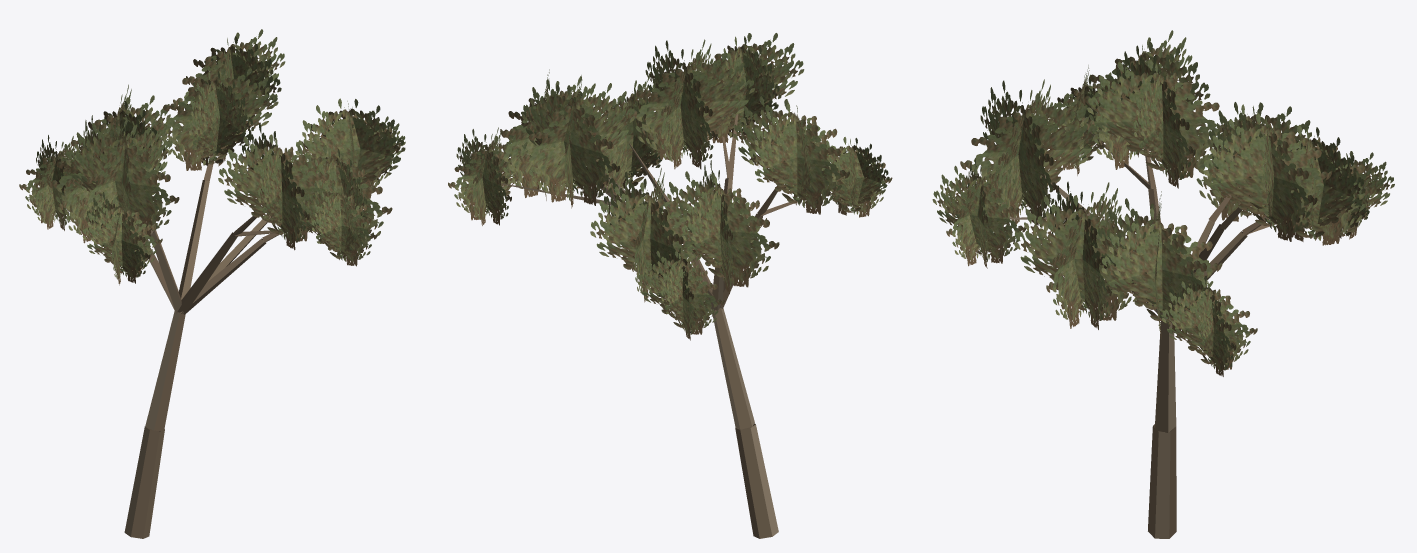
Rendered from Park_Tree_05_Windswept.fbx.
The picture shows the model from 3 angles, left to right: view 1: azimuth 30°, elevation 25°; view 2: azimuth 150°, elevation 25°; view 3: azimuth 270°, elevation 25°; orthographic projection. The views are drawn at different scales.
Visible parts, largest first — view 1: Park_Tree_05_Windswept.001; view 2: Park_Tree_05_Windswept.001; view 3: Park_Tree_05_Windswept.001.
Part boxes in pixels (x1=…): Park_Tree_05_Windswept.001: x1=19, y1=29, x2=405, y2=538; Park_Tree_05_Windswept.001: x1=448, y1=33, x2=892, y2=538; Park_Tree_05_Windswept.001: x1=932, y1=30, x2=1394, y2=538.
Size of the model in its own units: 426 by 484 by 402.
